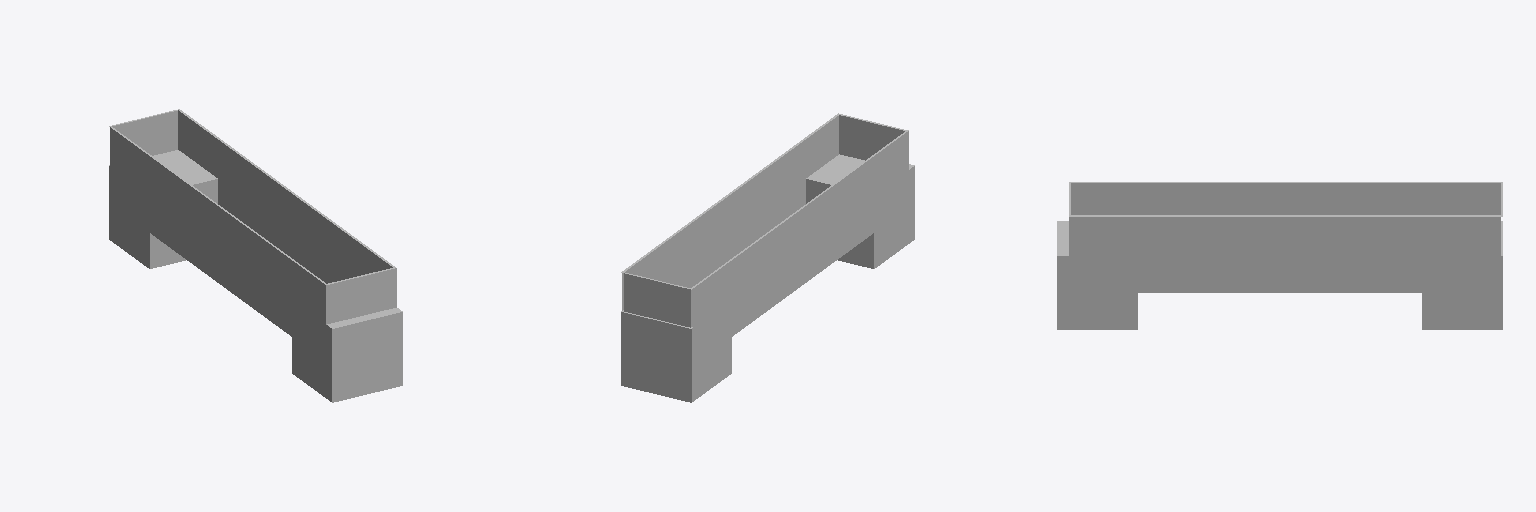
The model's file is level.obj.
3 renders of one model, left to right at view 1: azimuth 30°, elevation 25°; view 2: azimuth 150°, elevation 25°; view 3: azimuth 270°, elevation 25°, orthographic.
Size of the model in its own units: 2 by 3.06 by 10.95.